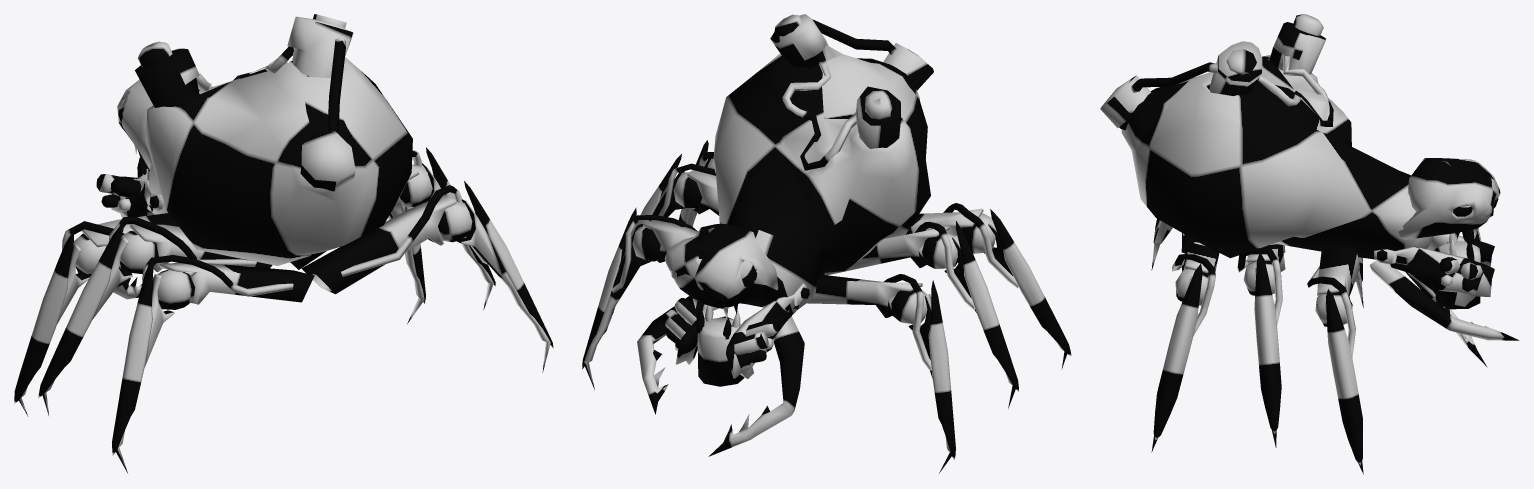
File: plague_mothership.obj
The picture shows the model from 3 angles, left to right: view 1: azimuth 30°, elevation 25°; view 2: azimuth 150°, elevation 25°; view 3: azimuth 270°, elevation 25°; orthographic projection. The views are drawn at different scales.
Visible parts, largest first — view 1: low_anim; view 2: low_anim; view 3: low_anim.
Part boxes in pixels (x1,y1,x2,y2): low_anim: (14,14,553,473); low_anim: (582,14,1071,473); low_anim: (1100,14,1519,474).
Size of the model in its own units: 202 by 168 by 178.
1 material, 1 textured.
